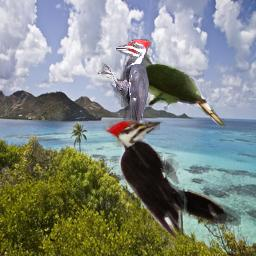Cuckoo: (125, 50, 226, 127)
Woodpecker: (103, 120, 241, 240), (97, 39, 152, 147)
